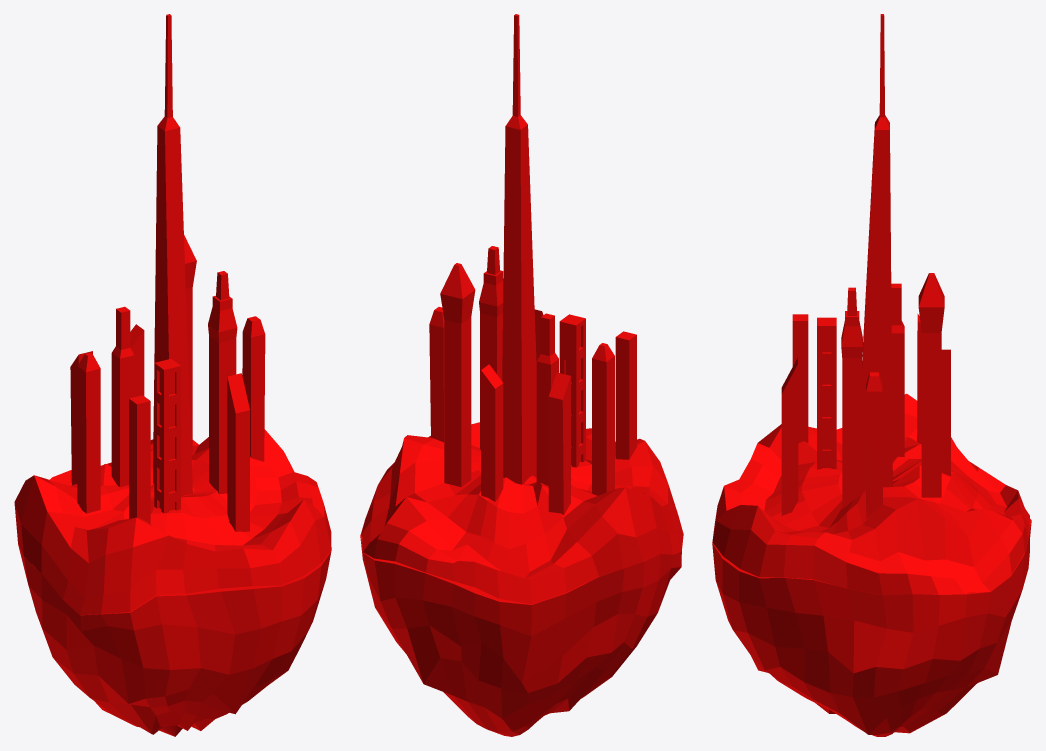
The model's file is EnemyCity3.fbx.
The picture shows the model from 3 angles, left to right: view 1: azimuth 30°, elevation 25°; view 2: azimuth 150°, elevation 25°; view 3: azimuth 270°, elevation 25°; orthographic projection.
Visible parts, largest first — view 1: Sphere; view 2: Sphere; view 3: Sphere.
Part boxes in pixels (x1,y1,x2,y2): Sphere: (14,14,331,736); Sphere: (360,14,683,736); Sphere: (712,14,1031,736).
Size of the model in its own units: 377 by 962 by 387.
